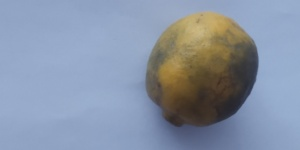BAD: (142, 11, 261, 129)
